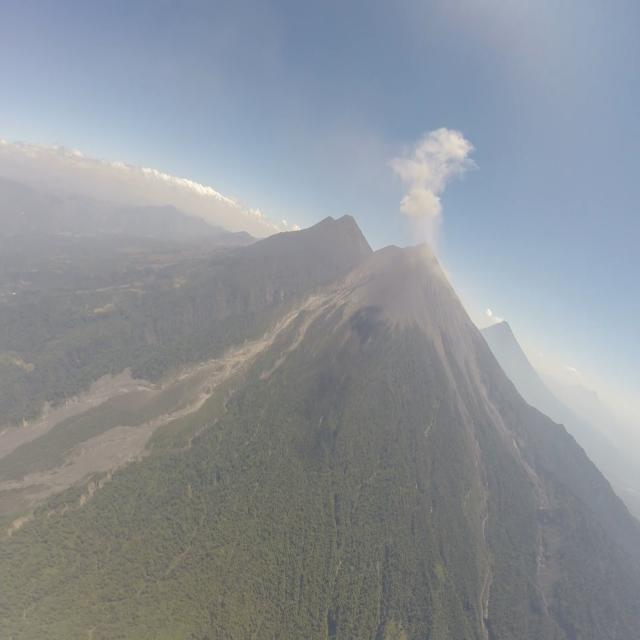Plume: (393, 126, 470, 238)
Summit: (410, 238, 438, 258)
